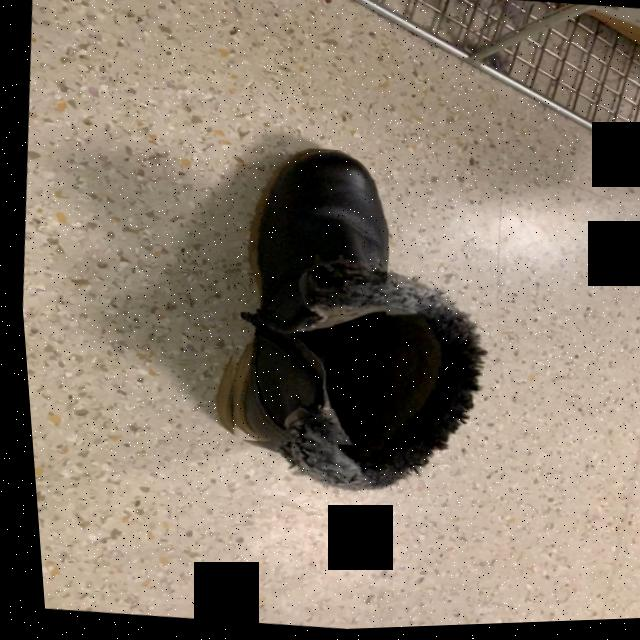shoe: (224, 150, 386, 443)
